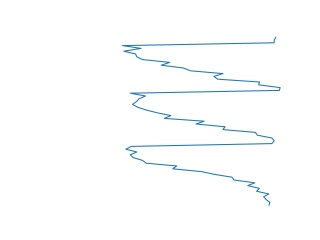distributaryMouthBar: (119, 34, 283, 207)
